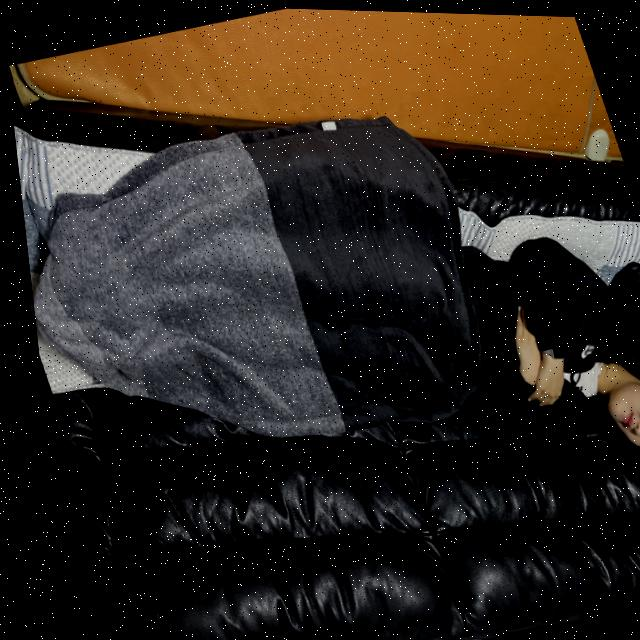sleeping-person: (5, 56, 640, 602)
